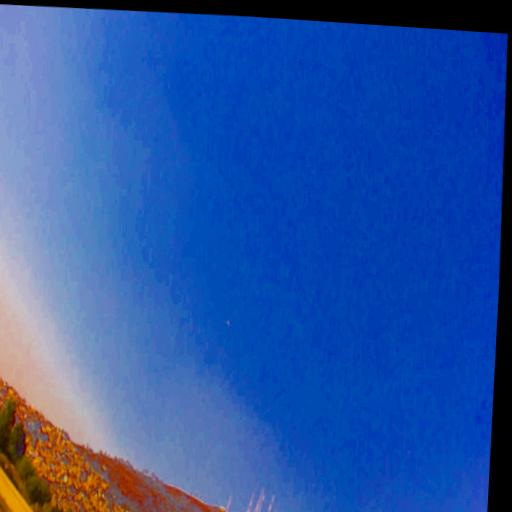drones: (225, 319, 232, 326)
